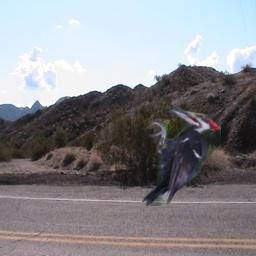Woodpecker: (142, 105, 221, 206)
